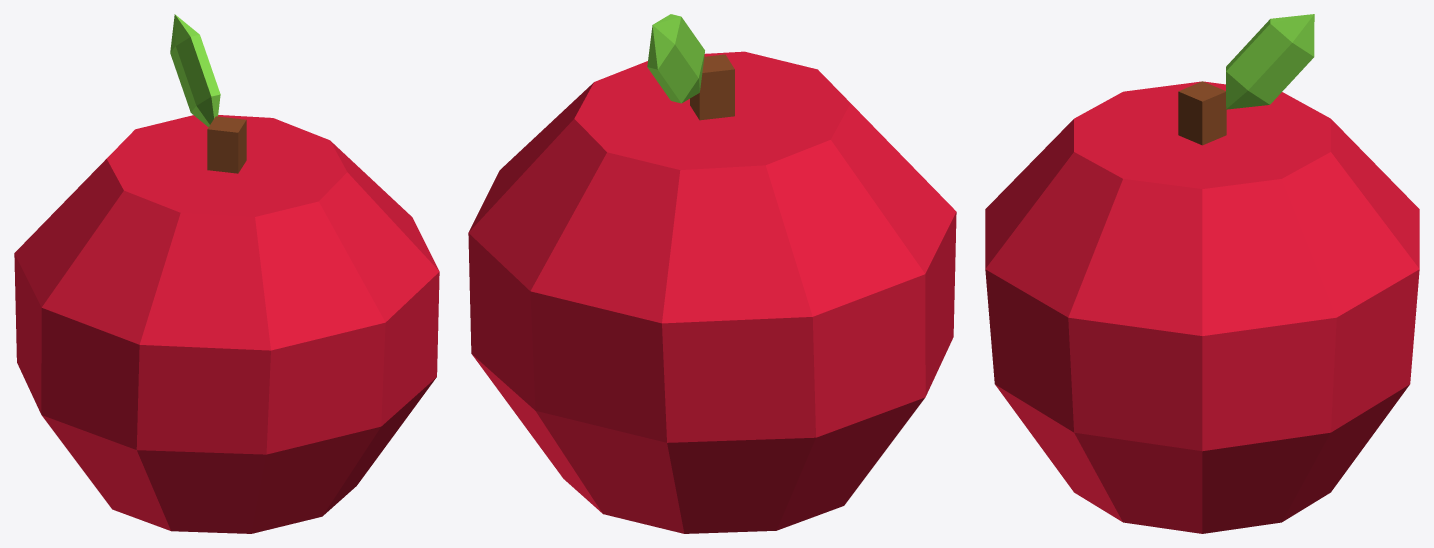
File: Apple.fbx
3 views of the same model, side by side, from view 1: azimuth 30°, elevation 25°; view 2: azimuth 150°, elevation 25°; view 3: azimuth 270°, elevation 25° (orthographic). The views are drawn at different scales.
Parts seen in each view (by area): view 1: Sphere, Sphere_1, Cylinder; view 2: Sphere, Sphere_1, Cylinder; view 3: Sphere, Sphere_1, Cylinder.
Part boxes in pixels (x1,y1,x2,y2): Sphere: (14, 115, 439, 533); Sphere_1: (170, 14, 220, 126); Cylinder: (207, 116, 246, 173); Sphere: (468, 51, 956, 533); Sphere_1: (647, 14, 704, 103); Cylinder: (690, 54, 734, 120); Sphere: (985, 81, 1419, 533); Sphere_1: (1226, 14, 1314, 109); Cylinder: (1178, 81, 1226, 145).
Size of the model in its own units: 200 by 243 by 189.
